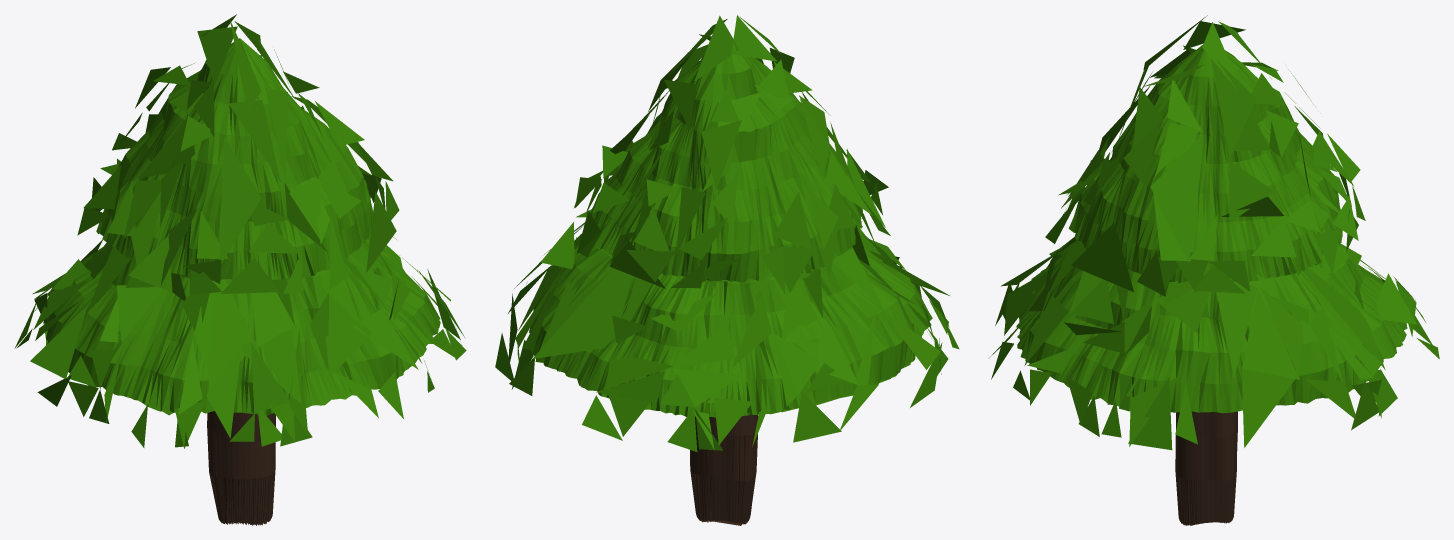
File: Tree.fbx
The picture shows the model from 3 angles, left to right: view 1: azimuth 30°, elevation 25°; view 2: azimuth 150°, elevation 25°; view 3: azimuth 270°, elevation 25°; orthographic projection.
Visible parts, largest first — view 1: Cone.001, Cylinder; view 2: Cone.001, Cylinder; view 3: Cone.001, Cylinder.
Part boxes in pixels (box(x1,y1,x2,y2)): Cone.001: box(14, 14, 466, 448); Cylinder: box(207, 411, 275, 525); Cone.001: box(495, 15, 959, 451); Cylinder: box(690, 415, 758, 525); Cone.001: box(988, 15, 1439, 450); Cylinder: box(1175, 411, 1237, 525).
Bounding box in the file's own units: 242 × 288 × 236.
